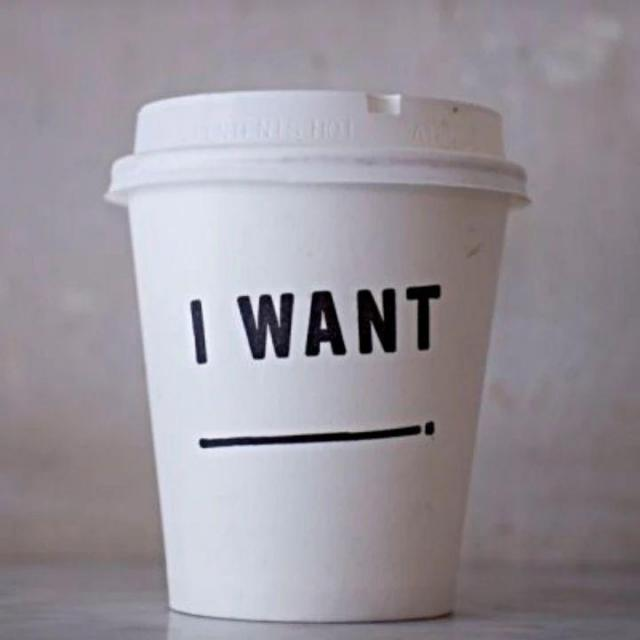cup-disposable: (109, 79, 536, 640)
